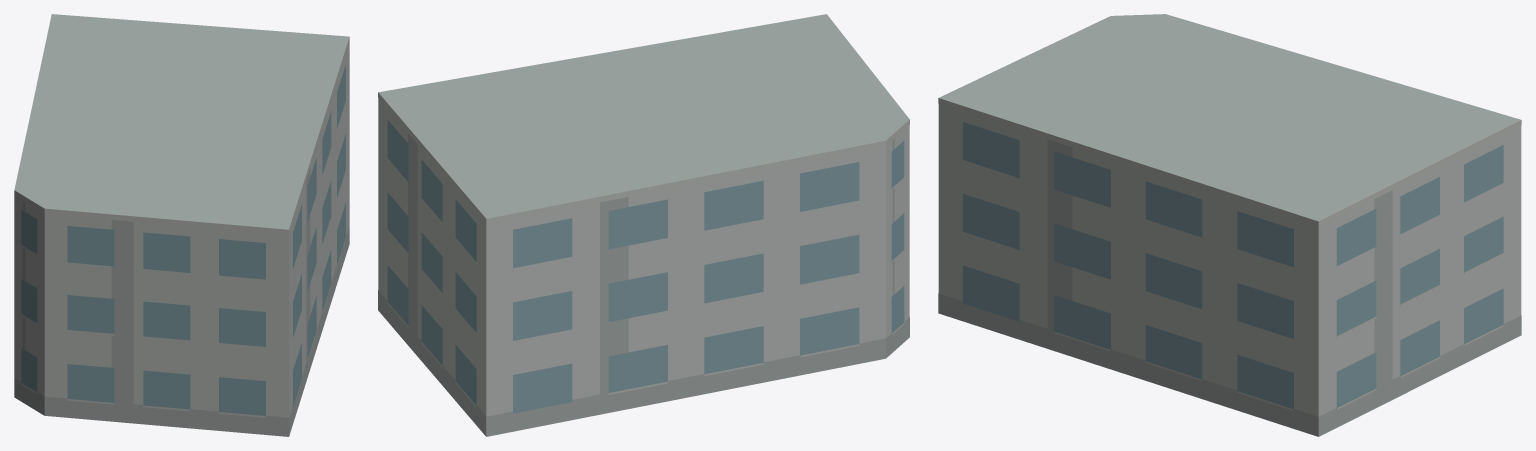
The model's file is survey-upis-32743463.glb.
3 renders of one model, left to right at view 1: azimuth 30°, elevation 25°; view 2: azimuth 150°, elevation 25°; view 3: azimuth 270°, elevation 25°, orthographic. The views are drawn at different scales.
Visible parts, largest first — view 1: survey-upis-32743463.tmp; view 2: survey-upis-32743463.tmp; view 3: survey-upis-32743463.tmp.
Part boxes in pixels (box(x1,y1,x2,y2)): survey-upis-32743463.tmp: box(14, 14, 349, 436); survey-upis-32743463.tmp: box(378, 14, 909, 436); survey-upis-32743463.tmp: box(938, 14, 1521, 436).
Size of the model in its own units: 18.91 by 9.15 by 22.45.
